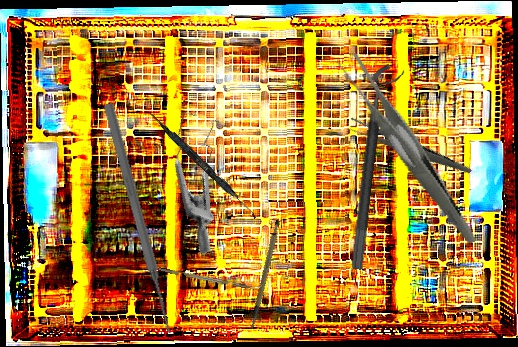Chopper: (158, 262, 263, 293)
Dressing Forceps: (335, 35, 477, 265), (343, 89, 473, 208)
Fixation Ring: (349, 62, 406, 273)
Pusher: (100, 102, 177, 335)
Scalpel Handle: (233, 218, 295, 330)
Spatula Surgical: (144, 109, 261, 220)
Speculum: (129, 97, 280, 256)
